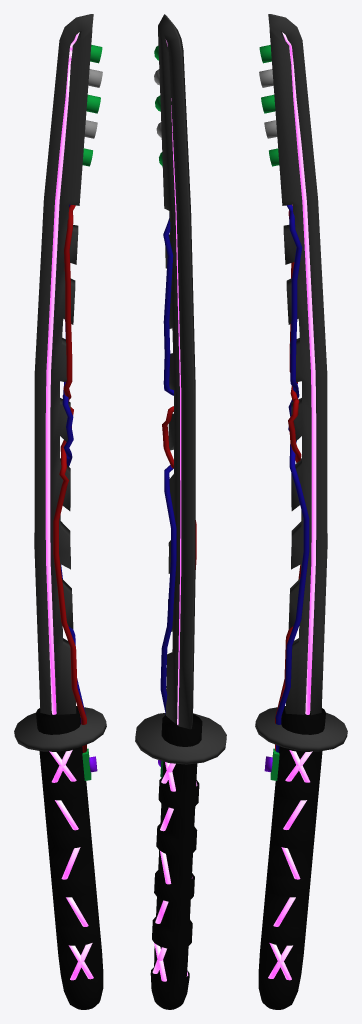
The model's file is katana.gltf.
3 renders of one model, left to right at view 1: azimuth 90°, elevation 25°; view 2: azimuth 210°, elevation 25°; view 3: azimuth 270°, elevation 25°, orthographic.
Parts seen in each view (by area): view 1: Cube.001, Cylinder, Cylinder.011, Circle.001, Cylinder.001, Circle, Cylinder.004, Cylinder.005; view 2: Cube.001, Cylinder, Cylinder.001, Circle, Cylinder.011, Circle.001; view 3: Cube.001, Cylinder, Cylinder.011, Circle, Cylinder.001, Circle.001, Cylinder.004, Cylinder.005.
Boxes of the visible parts, bbox=[...] form: Cube.001: bbox=[34, 14, 93, 715]; Cylinder: bbox=[36, 706, 103, 1009]; Cylinder.011: bbox=[45, 32, 93, 980]; Circle.001: bbox=[53, 205, 86, 752]; Cylinder.001: bbox=[14, 707, 106, 751]; Circle: bbox=[61, 204, 85, 723]; Cylinder.004: bbox=[82, 45, 102, 166]; Cylinder.005: bbox=[84, 69, 102, 138]; Cube.001: bbox=[158, 14, 195, 729]; Cylinder: bbox=[150, 714, 202, 1009]; Cylinder.001: bbox=[135, 713, 226, 764]; Circle: bbox=[160, 213, 176, 714]; Cylinder.011: bbox=[152, 40, 197, 981]; Circle.001: bbox=[162, 406, 196, 569]; Cube.001: bbox=[268, 14, 327, 715]; Cylinder: bbox=[258, 706, 325, 1009]; Cylinder.011: bbox=[268, 32, 316, 980]; Circle: bbox=[275, 204, 309, 752]; Cylinder.001: bbox=[255, 707, 347, 751]; Circle.001: bbox=[275, 205, 301, 750]; Cylinder.004: bbox=[259, 45, 279, 166]; Cylinder.005: bbox=[259, 69, 277, 138].
Bounding box in the file's own units: 0.1704 × 2.01 × 0.1705.
